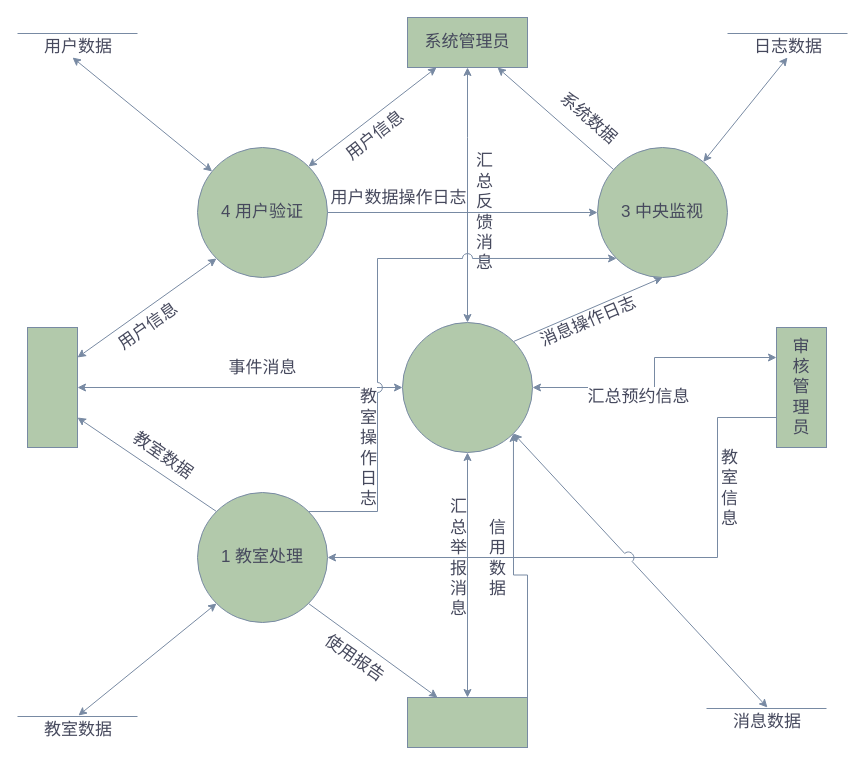
Image size: 865x765. Some labels were removed from this diagram. Here are the shapes that lost their labels. From the top down, the box of each, then its label:
(26, 326, 78, 448): 用 户
(402, 322, 532, 452): 2 消息汇总
(406, 696, 528, 748): 高级用户
